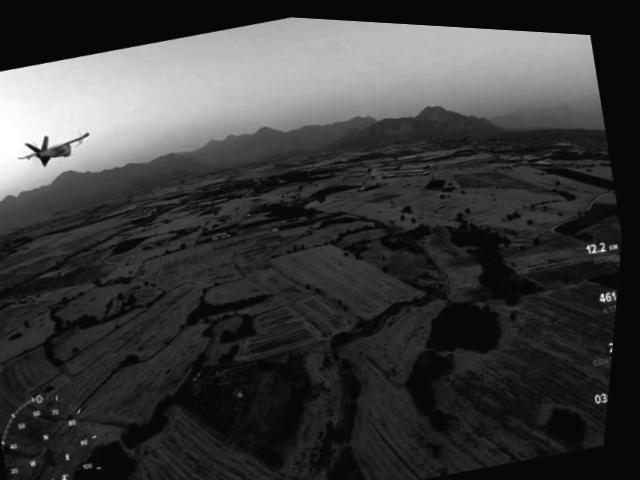hedef: (12, 117, 102, 185)
